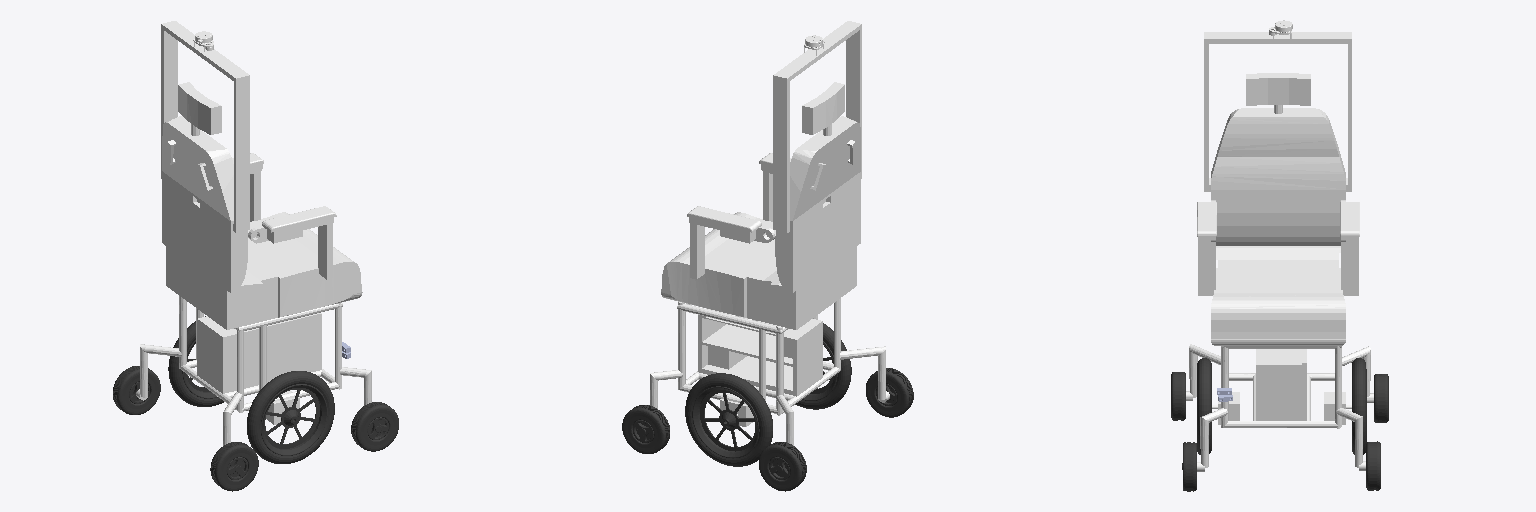
robot.urdf — wheelchair_gp_description:
<?xml version="1.0" encoding="utf-8"?>
<!-- This URDF was automatically created by SolidWorks to URDF Exporter! Originally created by [author] ([email redacted]) 
     Commit Version: 1.6.0-4-g7f85cfe  Build Version: 1.6.7995.38578
     For more information, please see http://wiki.ros.org/sw_urdf_exporter -->
<robot
  name="wheelchair_gp_description">
  <link
    name="base_link">
    <inertial>
      <origin
        xyz="-0.039757 -0.019357 -0.039165"
        rpy="0 0 0" />
      <mass
        value="13.933" />
      <inertia
        ixx="0.33097"
        ixy="0.00044744"
        ixz="0.022658"
        iyy="0.46476"
        iyz="0.0084497"
        izz="0.49394" />
    </inertial>
    <visual>
      <origin
        xyz="0 0 0"
        rpy="0 0 0" />
      <geometry>
        <mesh
          filename="package://wheelchair_gp_description/meshes/base_link.STL" />
      </geometry>
      <material
        name="">
        <color
          rgba="1 1 1 0.35" />
      </material>
    </visual>
    <collision>
      <origin
        xyz="0 0 0"
        rpy="0 0 0" />
      <geometry>
        <mesh
          filename="package://wheelchair_gp_description/meshes/base_link.STL" />
      </geometry>
    </collision>
  </link>
  <link
    name="right_wheel_link">
    <inertial>
      <origin
        xyz="0.00510162770348606 -0.030000000000002 -0.00883712628242242"
        rpy="0 0 0" />
      <mass
        value="3.63792559240615" />
      <inertia
        ixx="0.0501393580967394"
        ixy="1.12107821276125E-19"
        ixz="-8.37248749195825E-07"
        iyy="0.0986432390550648"
        iyz="1.67001456507497E-16"
        izz="0.0501416739249588" />
    </inertial>
    <visual>
      <origin
        xyz="0 0 0"
        rpy="0 0 0" />
      <geometry>
        <mesh
          filename="package://wheelchair_gp_description/meshes/right_wheel_link.STL" />
      </geometry>
      <material
        name="">
        <color
          rgba="0.298039215686275 0.298039215686275 0.298039215686275 1" />
      </material>
    </visual>
    <collision>
      <origin
        xyz="0 0 0"
        rpy="0 0 0" />
      <geometry>
        <mesh
          filename="package://wheelchair_gp_description/meshes/right_wheel_link.STL" />
      </geometry>
    </collision>
  </link>
  <joint
    name="right_wheel_joint"
    type="continuous">
    <origin
      xyz="-0.0782370331711224 -0.291972990052419 -0.168374239027783"
      rpy="0 0 0" />
    <parent
      link="base_link" />
    <child
      link="right_wheel_link" />
    <axis
      xyz="0 1 0" />
    <dynamics
      damping="0"
      friction="0.2" />
  </joint>
  <link
    name="left_wheel_link">
    <inertial>
      <origin
        xyz="0.00019641498461731 0.0300000000000018 -7.01814500627673E-05"
        rpy="0 0 0" />
      <mass
        value="3.63792559240615" />
      <inertia
        ixx="0.0501416166910778"
        ixy="-4.04263461901347E-18"
        ixz="-9.11182521543636E-07"
        iyy="0.0986432390550647"
        iyz="1.94384416365527E-16"
        izz="0.0501394153306204" />
    </inertial>
    <visual>
      <origin
        xyz="0 0 0"
        rpy="0 0 0" />
      <geometry>
        <mesh
          filename="package://wheelchair_gp_description/meshes/left_wheel_link.STL" />
      </geometry>
      <material
        name="">
        <color
          rgba="0.298039215686275 0.298039215686275 0.298039215686275 1" />
      </material>
    </visual>
    <collision>
      <origin
        xyz="0 0 0"
        rpy="0 0 0" />
      <geometry>
        <mesh
          filename="package://wheelchair_gp_description/meshes/left_wheel_link.STL" />
      </geometry>
    </collision>
  </link>
  <joint
    name="left_wheel_joint"
    type="continuous">
    <origin
      xyz="-0.0732001426526983 0.274956682906951 -0.177013089293031"
      rpy="0 0 0" />
    <parent
      link="base_link" />
    <child
      link="left_wheel_link" />
    <axis
      xyz="0 1 0" />
    <dynamics
      damping="0"
      friction="0.2" />
  </joint>
  <link
    name="c_rr_link">
    <inertial>
      <origin
        xyz="-3.13828650289061E-08 -0.0203309650537574 0.0403769854454989"
        rpy="0 0 0" />
      <mass
        value="0.121211258399187" />
      <inertia
        ixx="0.000183879326955444"
        ixy="2.26483161975211E-11"
        ixz="-3.32770031580253E-12"
        iyy="0.000178527913603531"
        iyz="-2.16822895135042E-05"
        izz="2.37333780216088E-05" />
    </inertial>
    <visual>
      <origin
        xyz="0 0 0"
        rpy="0 0 0" />
      <geometry>
        <mesh
          filename="package://wheelchair_gp_description/meshes/c_rr_link.STL" />
      </geometry>
      <material
        name="">
        <color
          rgba="1 1 1 1" />
      </material>
    </visual>
    <collision>
      <origin
        xyz="0 0 0"
        rpy="0 0 0" />
      <geometry>
        <mesh
          filename="package://wheelchair_gp_description/meshes/c_rr_link.STL" />
      </geometry>
    </collision>
  </link>
  <joint
    name="c_rr_joint"
    type="continuous">
    <origin
      xyz="-0.393409036225651 -0.350252210665998 -0.277013089293034"
      rpy="0 0 0" />
    <parent
      link="base_link" />
    <child
      link="c_rr_link" />
    <axis
      xyz="0 0 1" />
    <dynamics
      damping="0"
      friction="0.01" />
  </joint>
  <link
    name="wheel_rr_link">
    <inertial>
      <origin
        xyz="6.66133814775094E-16 -0.0760000000000002 -9.99200722162641E-16"
        rpy="0 0 0" />
      <mass
        value="1.6546211917139" />
      <inertia
        ixx="0.00469812484295985"
        ixy="3.09869809237376E-10"
        ixz="2.19664192882436E-19"
        iyy="0.00853457249449096"
        iyz="-1.14225228777157E-10"
        izz="0.00469812484295985" />
    </inertial>
    <visual>
      <origin
        xyz="0 0 0"
        rpy="0 0 0" />
      <geometry>
        <mesh
          filename="package://wheelchair_gp_description/meshes/wheel_rr_link.STL" />
      </geometry>
      <material
        name="">
        <color
          rgba="0.298039215686275 0.298039215686275 0.298039215686275 1" />
      </material>
    </visual>
    <collision>
      <origin
        xyz="0 0 0"
        rpy="0 0 0" />
      <geometry>
        <mesh
          filename="package://wheelchair_gp_description/meshes/wheel_rr_link.STL" />
      </geometry>
    </collision>
  </link>
  <joint
    name="wheel_rr_joint"
    type="continuous">
    <origin
      xyz="0 0 0"
      rpy="0 0 0" />
    <parent
      link="c_rr_link" />
    <child
      link="wheel_rr_link" />
    <axis
      xyz="0 -1 0" />
    <dynamics
      damping="0"
      friction="0.01" />
  </joint>
  <link
    name="c_rl_link">
    <inertial>
      <origin
        xyz="3.13828648623726E-08 0.0203309650537573 0.0403769854454998"
        rpy="0 0 0" />
      <mass
        value="0.121211258399187" />
      <inertia
        ixx="0.000183879326955444"
        ixy="2.26483161958936E-11"
        ixz="3.32770035341549E-12"
        iyy="0.000178527913603531"
        iyz="2.16822895135046E-05"
        izz="2.37333780216089E-05" />
    </inertial>
    <visual>
      <origin
        xyz="0 0 0"
        rpy="0 0 0" />
      <geometry>
        <mesh
          filename="package://wheelchair_gp_description/meshes/c_rl_link.STL" />
      </geometry>
      <material
        name="">
        <color
          rgba="1 1 1 1" />
      </material>
    </visual>
    <collision>
      <origin
        xyz="0 0 0"
        rpy="0 0 0" />
      <geometry>
        <mesh
          filename="package://wheelchair_gp_description/meshes/c_rl_link.STL" />
      </geometry>
    </collision>
  </link>
  <joint
    name="c_rl_joint"
    type="continuous">
    <origin
      xyz="-0.372337227642546 0.31893664115027 -0.277013089293036"
      rpy="0 0 0" />
    <parent
      link="base_link" />
    <child
      link="c_rl_link" />
    <axis
      xyz="0 0 1" />
    <dynamics
      damping="0"
      friction="0.01" />
  </joint>
  <link
    name="wheel_rl_link">
    <inertial>
      <origin
        xyz="-2.22044604925031E-16 0.076000000000002 5.77315972805081E-15"
        rpy="0 0 0" />
      <mass
        value="1.65462119171389" />
      <inertia
        ixx="0.0046981248429598"
        ixy="-1.37193710697435E-10"
        ixz="-1.72593884581092E-19"
        iyy="0.00853457249449089"
        iyz="-3.00407370002668E-10"
        izz="0.0046981248429598" />
    </inertial>
    <visual>
      <origin
        xyz="0 0 0"
        rpy="0 0 0" />
      <geometry>
        <mesh
          filename="package://wheelchair_gp_description/meshes/wheel_rl_link.STL" />
      </geometry>
      <material
        name="">
        <color
          rgba="0.298039215686275 0.298039215686275 0.298039215686275 1" />
      </material>
    </visual>
    <collision>
      <origin
        xyz="0 0 0"
        rpy="0 0 0" />
      <geometry>
        <mesh
          filename="package://wheelchair_gp_description/meshes/wheel_rl_link.STL" />
      </geometry>
    </collision>
  </link>
  <joint
    name="wheel_rl_joint"
    type="continuous">
    <origin
      xyz="0 0 0"
      rpy="0 0 0" />
    <parent
      link="c_rl_link" />
    <child
      link="wheel_rl_link" />
    <axis
      xyz="0 1 0" />
    <dynamics
      damping="0"
      friction="0.01" />
  </joint>
  <link
    name="c_fl_link">
    <inertial>
      <origin
        xyz="3.13828648068615E-08 0.0043309650537573 0.0403769854455019"
        rpy="0 0 0" />
      <mass
        value="0.121211258399187" />
      <inertia
        ixx="0.000183879326955444"
        ixy="2.26483161953357E-11"
        ixz="3.32770038421124E-12"
        iyy="0.000178527913603531"
        iyz="2.16822895135046E-05"
        izz="2.37333780216089E-05" />
    </inertial>
    <visual>
      <origin
        xyz="0 0 0"
        rpy="0 0 0" />
      <geometry>
        <mesh
          filename="package://wheelchair_gp_description/meshes/c_fl_link.STL" />
      </geometry>
      <material
        name="">
        <color
          rgba="1 1 1 1" />
      </material>
    </visual>
    <collision>
      <origin
        xyz="0 0 0"
        rpy="0 0 0" />
      <geometry>
        <mesh
          filename="package://wheelchair_gp_description/meshes/c_fl_link.STL" />
      </geometry>
    </collision>
  </link>
  <joint
    name="c_fl_joint"
    type="continuous">
    <origin
      xyz="0.27689495464306 0.30405178020271 -0.277013089293036"
      rpy="0 0 0" />
    <parent
      link="base_link" />
    <child
      link="c_fl_link" />
    <axis
      xyz="0 0 1" />
    <dynamics
      damping="0"
      friction="0.01" />
  </joint>
  <link
    name="wheel_fl_link">
    <inertial>
      <origin
        xyz="0.00446139900539488 0.0330891569793361 -0.00894963233404278"
        rpy="0 0 0" />
      <mass
        value="1.65462119171389" />
      <inertia
        ixx="0.00469812484295982"
        ixy="-3.2855366928529E-10"
        ixz="1.63590639821193E-18"
        iyy="0.0085345724944909"
        iyz="-3.34543045516606E-11"
        izz="0.00469812484295982" />
    </inertial>
    <visual>
      <origin
        xyz="0 0 0"
        rpy="0 0 0" />
      <geometry>
        <mesh
          filename="package://wheelchair_gp_description/meshes/wheel_fl_link.STL" />
      </geometry>
      <material
        name="">
        <color
          rgba="0.298039215686275 0.298039215686275 0.298039215686275 1" />
      </material>
    </visual>
    <collision>
      <origin
        xyz="0 0 0"
        rpy="0 0 0" />
      <geometry>
        <mesh
          filename="package://wheelchair_gp_description/meshes/wheel_fl_link.STL" />
      </geometry>
    </collision>
  </link>
  <joint
    name="wheel_fl_joint"
    type="continuous">
    <origin
      xyz="-0.00446139900539422 0.0269108430206658 0.00894963233404933"
      rpy="0 0 0" />
    <parent
      link="c_fl_link" />
    <child
      link="wheel_fl_link" />
    <axis
      xyz="0 -1 0" />
    <dynamics
      damping="0"
      friction="0.01" />
  </joint>
  <link
    name="c_fr_link">
    <inertial>
      <origin
        xyz="-3.13828649178838E-08 -0.00433096505375735 0.0403769854454989"
        rpy="0 0 0" />
      <mass
        value="0.121211258399187" />
      <inertia
        ixx="0.000183879326955444"
        ixy="2.26483162485928E-11"
        ixz="-3.32769997596411E-12"
        iyy="0.000178527913603531"
        iyz="-2.16822895135042E-05"
        izz="2.37333780216088E-05" />
    </inertial>
    <visual>
      <origin
        xyz="0 0 0"
        rpy="0 0 0" />
      <geometry>
        <mesh
          filename="package://wheelchair_gp_description/meshes/c_fr_link.STL" />
      </geometry>
      <material
        name="">
        <color
          rgba="1 1 1 1" />
      </material>
    </visual>
    <collision>
      <origin
        xyz="0 0 0"
        rpy="0 0 0" />
      <geometry>
        <mesh
          filename="package://wheelchair_gp_description/meshes/c_fr_link.STL" />
      </geometry>
    </collision>
  </link>
  <joint
    name="c_fr_joint"
    type="continuous">
    <origin
      xyz="0.283824627602434 -0.321068087348177 -0.277013089293038"
      rpy="0 0 0" />
    <parent
      link="base_link" />
    <child
      link="c_fr_link" />
    <axis
      xyz="0 0 1" />
    <dynamics
      damping="0"
      friction="0.01" />
  </joint>
  <link
    name="wheel_fr_link">
    <inertial>
      <origin
        xyz="5.55111512312578E-17 -0.05 2.22044604925031E-16"
        rpy="0 0 0" />
      <mass
        value="1.65462119171388" />
      <inertia
        ixx="0.0046981248429598"
        ixy="-6.92222670801156E-11"
        ixz="3.43454942193008E-19"
        iyy="0.00853457249449086"
        iyz="-3.22916359624308E-10"
        izz="0.0046981248429598" />
    </inertial>
    <visual>
      <origin
        xyz="0 0 0"
        rpy="0 0 0" />
      <geometry>
        <mesh
          filename="package://wheelchair_gp_description/meshes/wheel_fr_link.STL" />
      </geometry>
      <material
        name="">
        <color
          rgba="0.298039215686275 0.298039215686275 0.298039215686275 1" />
      </material>
    </visual>
    <collision>
      <origin
        xyz="0 0 0"
        rpy="0 0 0" />
      <geometry>
        <mesh
          filename="package://wheelchair_gp_description/meshes/wheel_fr_link.STL" />
      </geometry>
    </collision>
  </link>
  <joint
    name="wheel_fr_joint"
    type="continuous">
    <origin
      xyz="0 -0.01 0"
      rpy="0 0 0" />
    <parent
      link="c_fr_link" />
    <child
      link="wheel_fr_link" />
    <axis
      xyz="0 1 0" />
    <dynamics
      damping="0"
      friction="0.01" />
  </joint>
  <link
    name="chair_link">
    <inertial>
      <origin
        xyz="-0.10157 -0.021818 0.4723"
        rpy="0 0 0" />
      <mass
        value="15.71" />
      <inertia
        ixx="0.008371"
        ixy="0.019686"
        ixz="0.0024599"
        iyy="0.0905"
        iyz="0.0070802"
        izz="0.0060145" />
    </inertial>
    <visual>
      <origin
        xyz="0 0 0"
        rpy="0 0 0" />
      <geometry>
        <mesh
          filename="package://wheelchair_gp_description/meshes/chair_link.STL" />
      </geometry>
      <material
        name="">
        <color
          rgba="1 1 1 0.35" />
      </material>
    </visual>
    <collision>
      <origin
        xyz="0 0 0"
        rpy="0 0 0" />
      <geometry>
        <mesh
          filename="package://wheelchair_gp_description/meshes/chair_link.STL" />
      </geometry>
    </collision>
  </link>
  <joint
    name="chair_joint"
    type="fixed">
    <origin
      xyz="0 0 0"
      rpy="0 0 0" />
    <parent
      link="base_link" />
    <child
      link="chair_link" />
    <axis
      xyz="0 0 0" />
    <dynamics
      damping="0"
      friction="0" />
  </joint>
  <link
    name="laser_link">
    <inertial>
      <origin
        xyz="0.000495105100789484 0.0164439657014417 0.00393830931158456"
        rpy="0 0 0" />
      <mass
        value="0.171592914783825" />
      <inertia
        ixx="8.81695728106642E-05"
        ixy="1.0242870227811E-06"
        ixz="-2.45165014566817E-07"
        iyy="5.5532059341782E-05"
        iyz="-4.34620831675872E-06"
        izz="0.000129552220460151" />
    </inertial>
    <visual>
      <origin
        xyz="0 0 0"
        rpy="0 0 0" />
      <geometry>
        <mesh
          filename="package://wheelchair_gp_description/meshes/laser_link.STL" />
      </geometry>
      <material
        name="">
        <color
          rgba="1 1 1 0.3" />
      </material>
    </visual>
    <collision>
      <origin
        xyz="0 0 0"
        rpy="0 0 0" />
      <geometry>
        <mesh
          filename="package://wheelchair_gp_description/meshes/laser_link.STL" />
      </geometry>
    </collision>
  </link>
  <joint
    name="laser_joint"
    type="fixed">
    <origin
      xyz="-0.289700142652701 -0.0219729900524268 1.41197884354779"
      rpy="0 0 0" />
    <parent
      link="chair_link" />
    <child
      link="laser_link" />
    <axis
      xyz="0 0 0" />
    <dynamics
      damping="0"
      friction="0" />
  </joint>
  <link
    name="imu_link">
    <inertial>
      <origin
        xyz="0.018949 0.005 -0.010521"
        rpy="0 0 0" />
      <mass
        value="0.0081342" />
      <inertia
        ixx="3.6792E-07"
        ixy="-1.2671E-21"
        ixz="1.2472E-21"
        iyy="1.2738E-06"
        iyz="-2.1176E-22"
        izz="1.0414E-06" />
    </inertial>
    <visual>
      <origin
        xyz="0 0 0"
        rpy="0 0 0" />
      <geometry>
        <mesh
          filename="package://wheelchair_gp_description/meshes/imu_link.STL" />
      </geometry>
      <material
        name="">
        <color
          rgba="1 1 1 1" />
      </material>
    </visual>
    <collision>
      <origin
        xyz="0 0 0"
        rpy="0 0 0" />
      <geometry>
        <mesh
          filename="package://wheelchair_gp_description/meshes/imu_link.STL" />
      </geometry>
    </collision>
  </link>
  <joint
    name="imu_joint"
    type="fixed">
    <origin
      xyz="0.156900923854985 0.0739145260442063 0.136986910706968"
      rpy="1.5707963267949 0 0" />
    <parent
      link="base_link" />
    <child
      link="imu_link" />
    <axis
      xyz="0 0 0" />
    <dynamics
      damping="0"
      friction="0" />
  </joint>
  <link
    name="sonar1_link">
    <inertial>
      <origin
        xyz="0.03 0.01 0.0125"
        rpy="0 0 0" />
      <mass
        value="0.0260730091830128" />
      <inertia
        ixx="2.33342553567574E-06"
        ixy="2.39750637008089E-22"
        ixz="4.13279061765283E-21"
        iyy="8.76262920888084E-06"
        iyz="-5.24053573970192E-23"
        izz="8.38011628799275E-06" />
    </inertial>
    <visual>
      <origin
        xyz="0 0 0"
        rpy="0 0 0" />
      <geometry>
        <mesh
          filename="package://wheelchair_gp_description/meshes/sonar1_link.STL" />
      </geometry>
      <material
        name="">
        <color
          rgba="0.792156862745098 0.819607843137255 0.933333333333333 1" />
      </material>
    </visual>
    <collision>
      <origin
        xyz="0 0 0"
        rpy="0 0 0" />
      <geometry>
        <mesh
          filename="package://wheelchair_gp_description/meshes/sonar1_link.STL" />
      </geometry>
    </collision>
  </link>
  <joint
    name="sonar1_frame"
    type="fixed">
    <origin
      xyz="0.209699857347303 -0.271972990052421 0.0212022900160468"
      rpy="1.5707963267949 0 1.5707963267949" />
    <parent
      link="base_link" />
    <child
      link="sonar1_link" />
    <axis
      xyz="0 0 0" />
  </joint>
  <link
    name="sonar2_link">
    <inertial>
      <origin
        xyz="-0.0259807621134805 0.00999999999999989 0.0125"
        rpy="0 0 0" />
      <mass
        value="0.0260730091830128" />
      <inertia
        ixx="2.33342553567575E-06"
        ixy="-2.34670732739222E-20"
        ixz="4.60574165069522E-21"
        iyy="8.76262920888086E-06"
        iyz="-1.04096839012415E-22"
        izz="8.38011628799278E-06" />
    </inertial>
    <visual>
      <origin
        xyz="0 0 0"
        rpy="0 0 0" />
      <geometry>
        <mesh
          filename="package://wheelchair_gp_description/meshes/sonar2_link.STL" />
      </geometry>
      <material
        name="">
        <color
          rgba="0.792156862745098 0.819607843137255 0.933333333333333 1" />
      </material>
    </visual>
    <collision>
      <origin
        xyz="0 0 0"
        rpy="0 0 0" />
      <geometry>
        <mesh
          filename="package://wheelchair_gp_description/meshes/sonar2_link.STL" />
      </geometry>
    </collision>
  </link>
  <joint
    name="sonar2_frame"
    type="fixed">
    <origin
      xyz="0.203696157664793 -0.214605255589858 -0.0087977099839529"
      rpy="1.57079632679489 0 1.83259571459405" />
    <parent
      link="base_link" />
    <child
      link="sonar2_link" />
    <axis
      xyz="0 0 0" />
  </joint>
</robot>

--- Render facts (derived) ---
Views: 3 orthographic renders of the robot side by side, from view 1: azimuth 30°, elevation 25°; view 2: azimuth 150°, elevation 25°; view 3: azimuth 270°, elevation 25°.
Robot: wheelchair_gp_description — 16 links, 15 joints (10 continuous, 5 fixed); root link base_link; default pose: every joint at zero.
Visible links, largest first — view 1: chair_link, base_link, right_wheel_link, wheel_rr_link, wheel_fr_link, wheel_rl_link, left_wheel_link; view 2: chair_link, base_link, left_wheel_link, wheel_rl_link, wheel_fl_link, right_wheel_link, wheel_rr_link; view 3: chair_link, base_link, left_wheel_link, right_wheel_link, wheel_rl_link, wheel_fl_link, wheel_rr_link, wheel_fr_link.
Link boxes in pixels (<box>): chair_link: <box>161,21,362,329</box>; base_link: <box>140,296,371,444</box>; right_wheel_link: <box>247,371,334,463</box>; wheel_rr_link: <box>210,442,258,491</box>; wheel_fr_link: <box>351,402,398,451</box>; wheel_rl_link: <box>113,366,160,414</box>; left_wheel_link: <box>168,316,223,406</box>; chair_link: <box>661,21,861,329</box>; base_link: <box>650,298,885,444</box>; left_wheel_link: <box>685,373,772,466</box>; wheel_rl_link: <box>759,442,806,491</box>; wheel_fl_link: <box>622,405,669,453</box>; right_wheel_link: <box>795,323,851,409</box>; wheel_rr_link: <box>866,368,913,417</box>; chair_link: <box>1197,32,1359,345</box>; base_link: <box>1189,344,1370,450</box>; left_wheel_link: <box>1352,358,1366,454</box>; right_wheel_link: <box>1197,358,1211,454</box>; wheel_rl_link: <box>1374,374,1388,422</box>; wheel_fl_link: <box>1366,441,1380,490</box>; wheel_rr_link: <box>1171,372,1185,420</box>; wheel_fr_link: <box>1182,442,1196,491</box>.
Size in the robot's own frame: 0.8772 by 0.8812 by 1.81 metres.
Meshes: 16 distinct files referenced, 16 mesh visuals loaded (16 binary STL).